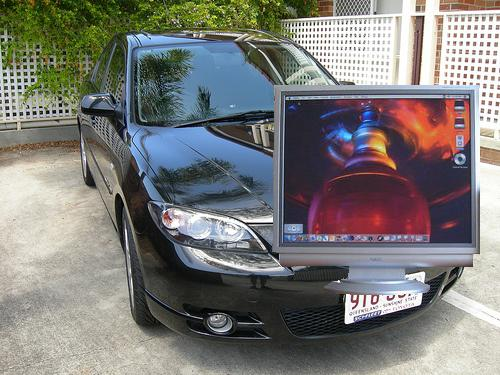tampered: (273, 86, 480, 295)
